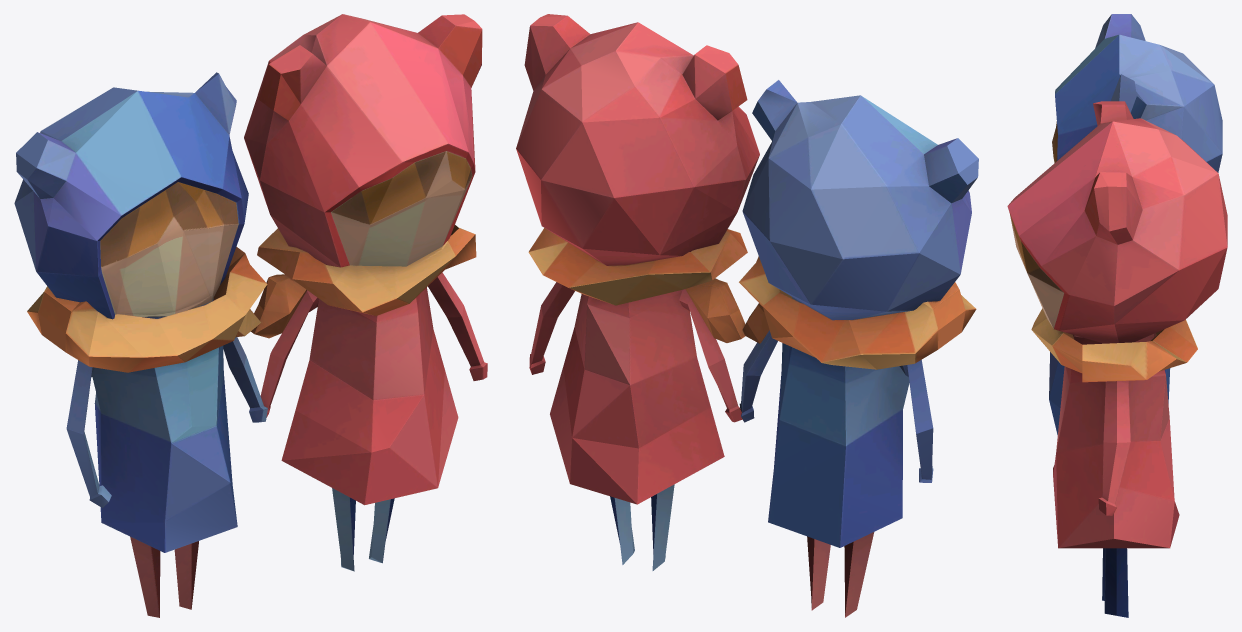
Rendered from FbxSDKmaterialtest.fbx.
3 views of the same model, side by side, from view 1: azimuth 30°, elevation 25°; view 2: azimuth 150°, elevation 25°; view 3: azimuth 270°, elevation 25° (orthographic). The views are drawn at different scales.
Visible parts, largest first — view 1: character; view 2: character; view 3: character.
Boxes of the visible parts, bbox=[...] form: character: bbox=[14, 14, 487, 617]; character: bbox=[516, 14, 978, 617]; character: bbox=[1007, 14, 1227, 617].
Size of what is drawn, in the model's own units: 362 by 413 by 167.
